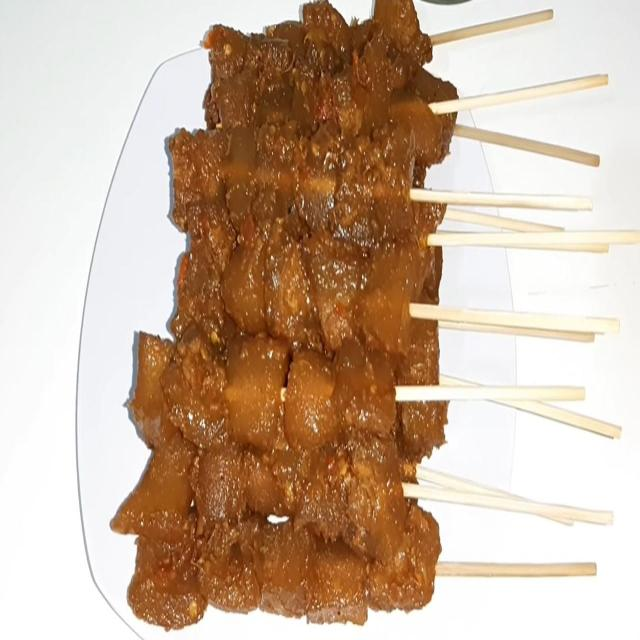Sate: (168, 52, 610, 631)
